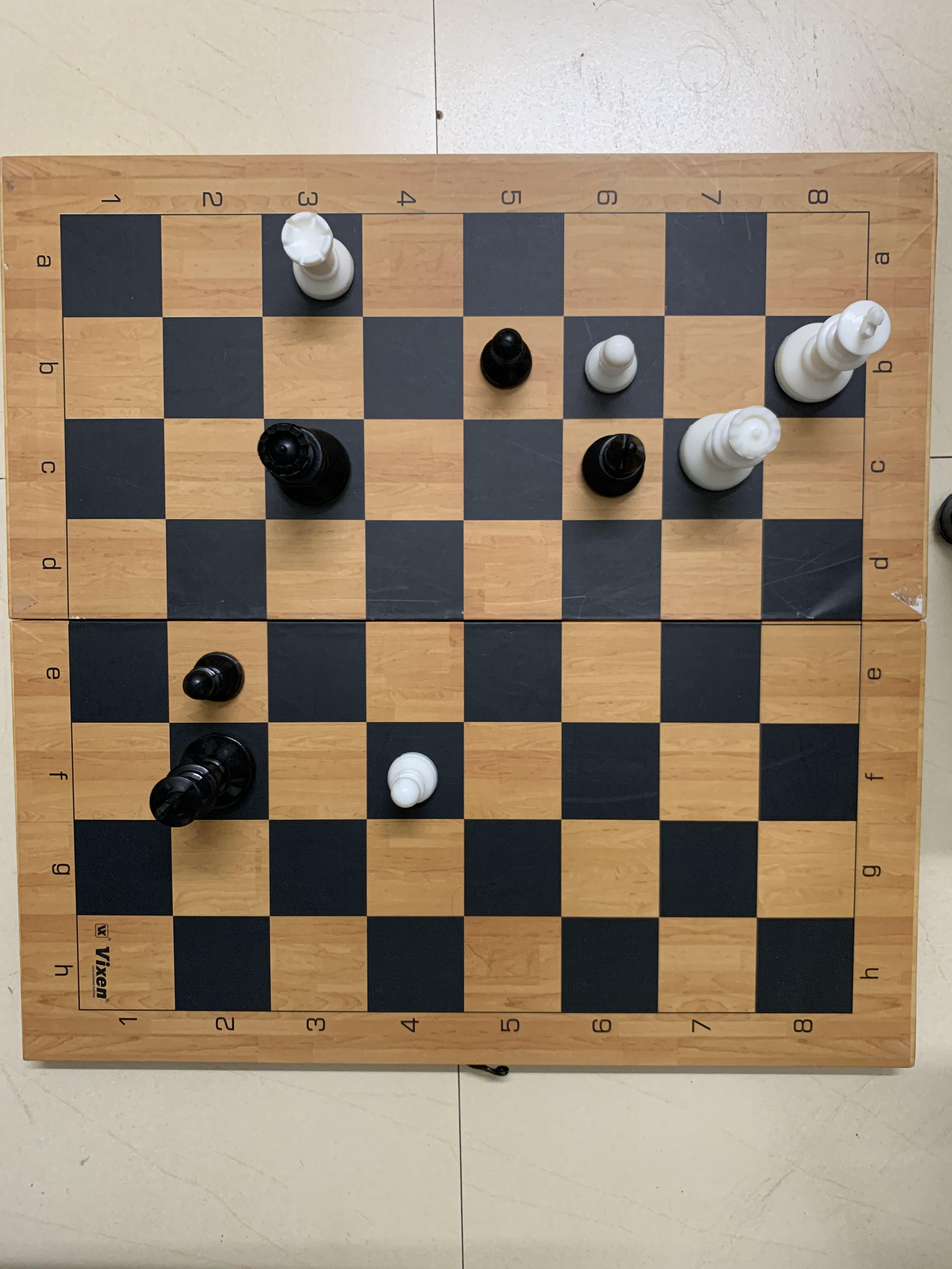black_bishop: (573, 424, 652, 511)
black_king: (132, 723, 260, 836)
black_pawn: (173, 625, 255, 721), (469, 317, 550, 405)
black_queen: (255, 411, 354, 521)
white_king: (779, 290, 888, 406)
white_pawn: (364, 729, 453, 820), (565, 318, 659, 404)
white_queen: (677, 400, 791, 498)
white_rook: (264, 203, 360, 302)
